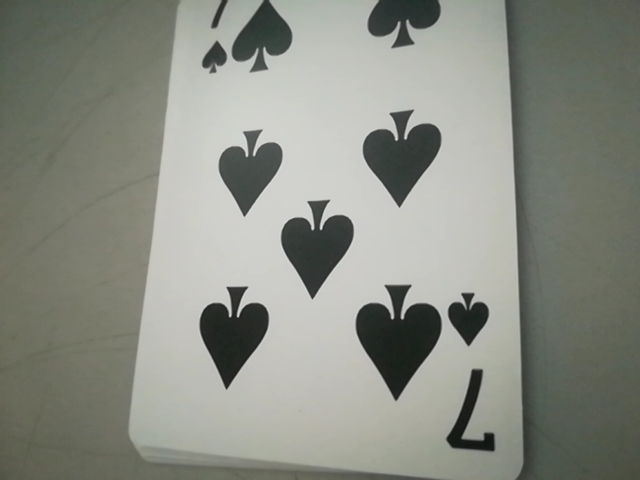ht 7: (445, 283, 502, 455)
